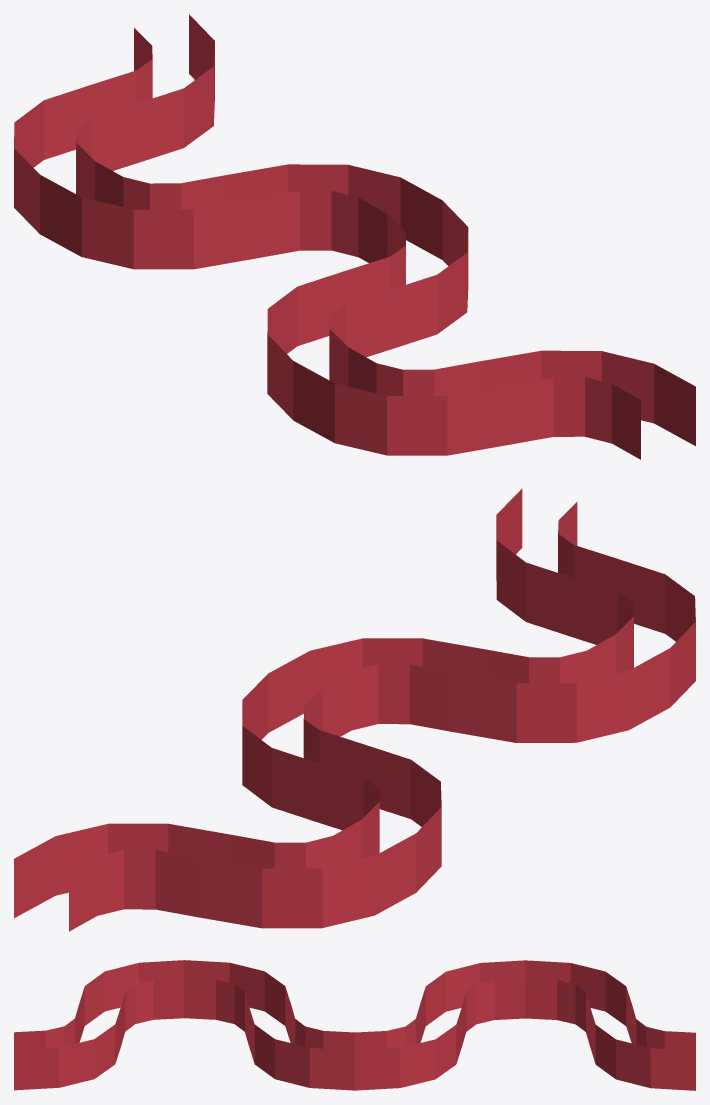
The model's file is Scurve_collision.fbx.
3 views of the same model, one above another, from view 1: azimuth 30°, elevation 25°; view 2: azimuth 150°, elevation 25°; view 3: azimuth 270°, elevation 25° (orthographic). The views are drawn at different scales.
Parts seen in each view (by area): view 1: Scurve_collision; view 2: Scurve_collision; view 3: Scurve_collision.
Part boxes in pixels (x1=…): Scurve_collision: x1=14, y1=14, x2=695, y2=459; Scurve_collision: x1=14, y1=488, x2=695, y2=931; Scurve_collision: x1=14, y1=960, x2=695, y2=1090.
Size of the model in its own units: 5028 by 1037 by 15986.
